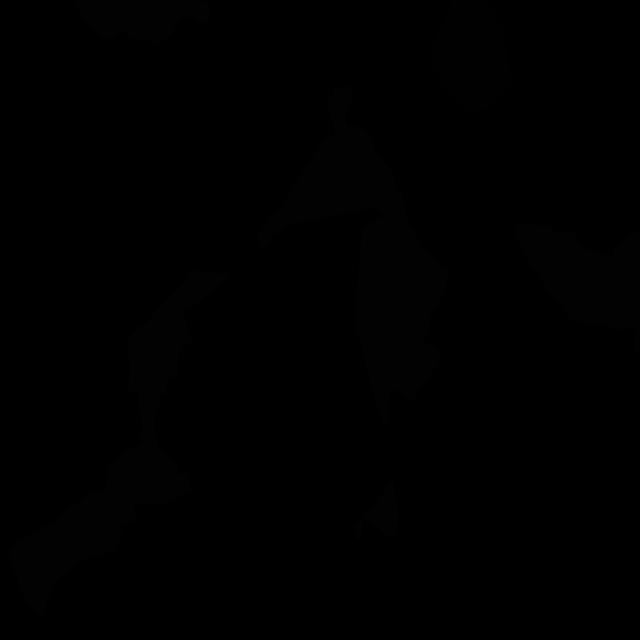cardboard: (256, 86, 450, 383), (114, 269, 231, 527), (8, 458, 126, 615), (514, 221, 640, 333), (364, 342, 441, 429), (74, 0, 210, 44), (355, 477, 399, 541), (612, 228, 640, 282), (633, 332, 640, 359)
rigid_plastic: (431, 0, 512, 113)
